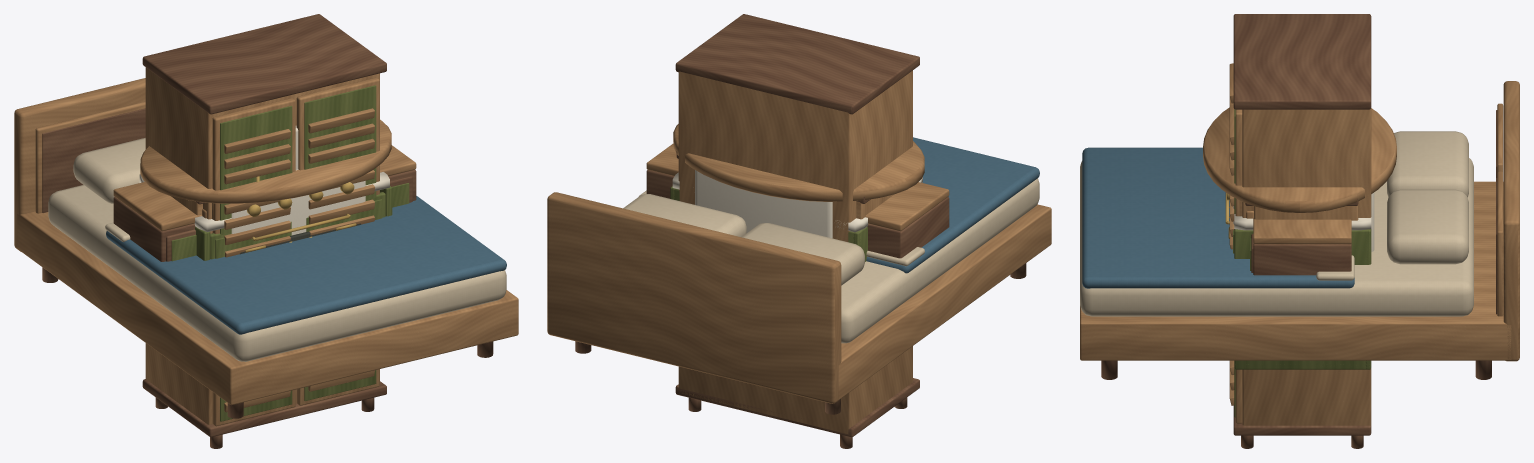
Rendered from tidy-home-expansion.glb.
3 renders of one model, left to right at view 1: azimuth 30°, elevation 25°; view 2: azimuth 150°, elevation 25°; view 3: azimuth 270°, elevation 25°, orthographic.
Parts seen in each view (by area): view 1: bed_mesh, wardrobe_mesh, diningtable_mesh, tvconsole_mesh, stove_mesh, sink_mesh; view 2: bed_mesh, wardrobe_mesh, tvconsole_mesh, diningtable_mesh, stove_mesh, sink_mesh; view 3: bed_mesh, wardrobe_mesh, diningtable_mesh, tvconsole_mesh, sink_mesh, dresser_mesh.
Boxes of the visible parts, bbox=[...] form: bed_mesh: bbox=[14, 78, 518, 418]; wardrobe_mesh: bbox=[142, 14, 386, 448]; diningtable_mesh: bbox=[140, 119, 391, 219]; tvconsole_mesh: bbox=[113, 145, 416, 261]; stove_mesh: bbox=[231, 169, 365, 254]; sink_mesh: bbox=[139, 172, 392, 260]; bed_mesh: bbox=[547, 137, 1051, 414]; wardrobe_mesh: bbox=[675, 14, 919, 448]; tvconsole_mesh: bbox=[646, 143, 949, 258]; diningtable_mesh: bbox=[673, 124, 924, 201]; stove_mesh: bbox=[695, 170, 832, 238]; sink_mesh: bbox=[670, 172, 922, 261]; bed_mesh: bbox=[1080, 81, 1519, 379]; wardrobe_mesh: bbox=[1229, 14, 1371, 448]; diningtable_mesh: bbox=[1203, 107, 1396, 216]; tvconsole_mesh: bbox=[1250, 218, 1351, 275]; sink_mesh: bbox=[1228, 214, 1371, 369]; dresser_mesh: bbox=[1245, 198, 1358, 220].
Bounding box in the file's own units: 0.52 × 0.6 × 0.68.
15 materials, 15 textured.
